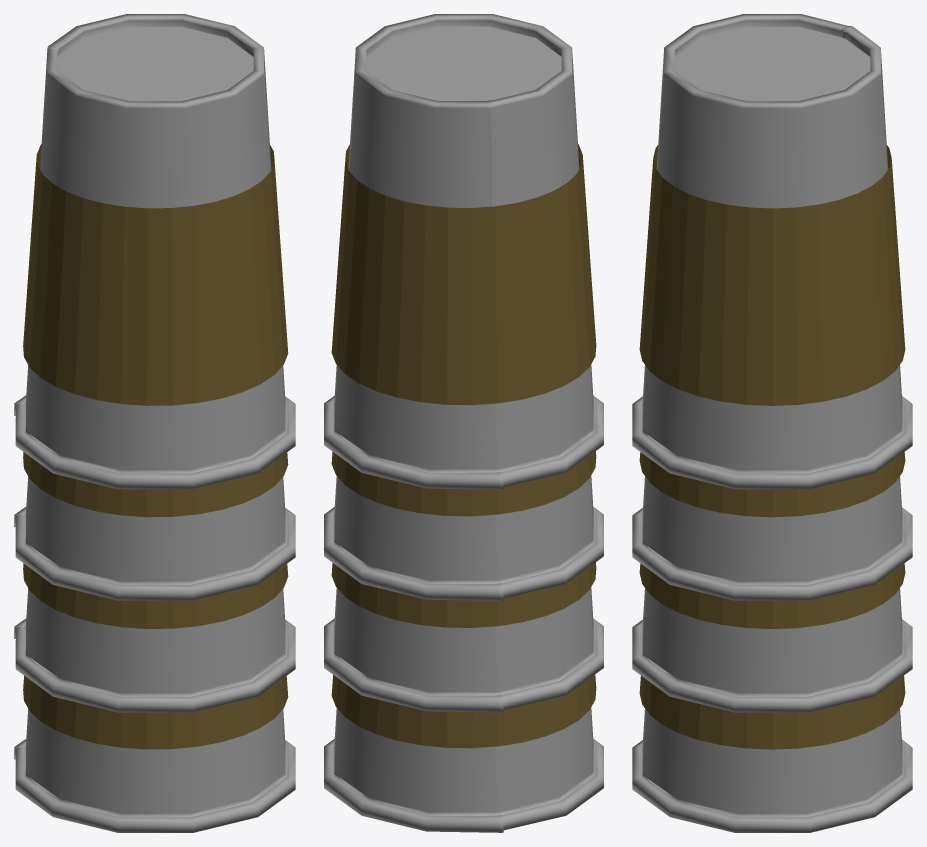
The model's file is TakeAwayMugStack.fbx.
3 views of the same model, side by side, from view 1: azimuth 30°, elevation 25°; view 2: azimuth 150°, elevation 25°; view 3: azimuth 270°, elevation 25° (orthographic).
Parts seen in each view (by area): view 1: MugStack; view 2: MugStack; view 3: MugStack.
Part boxes in pixels (x1,y1,x2,y2): MugStack: [14, 14, 295, 832]; MugStack: [324, 14, 603, 832]; MugStack: [632, 14, 912, 832].
Bounding box in the file's own units: 11.45 × 32.24 × 11.45.
